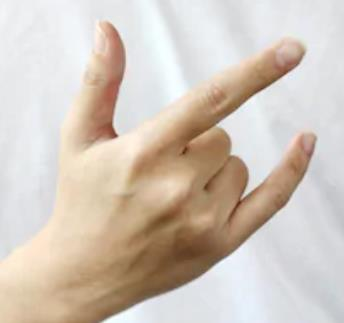back: (44, 20, 323, 294)
